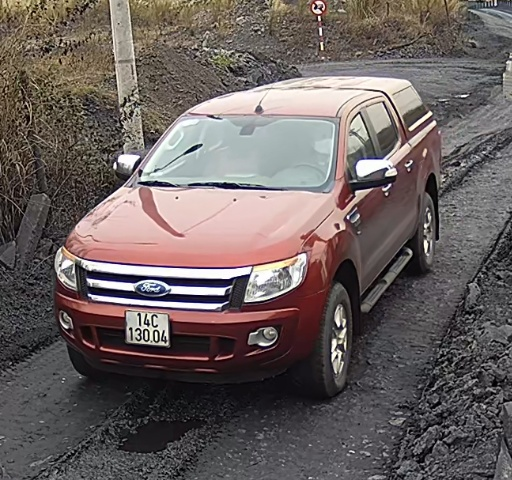vehicle plate: (122, 306, 170, 348)
